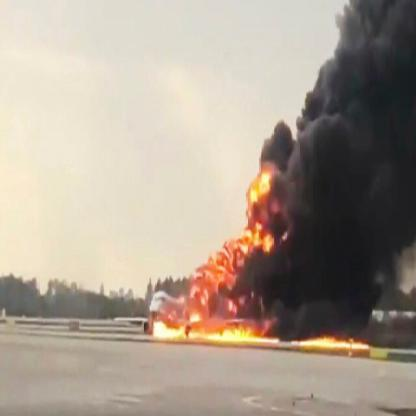CIV_Plane: (112, 280, 228, 354)
